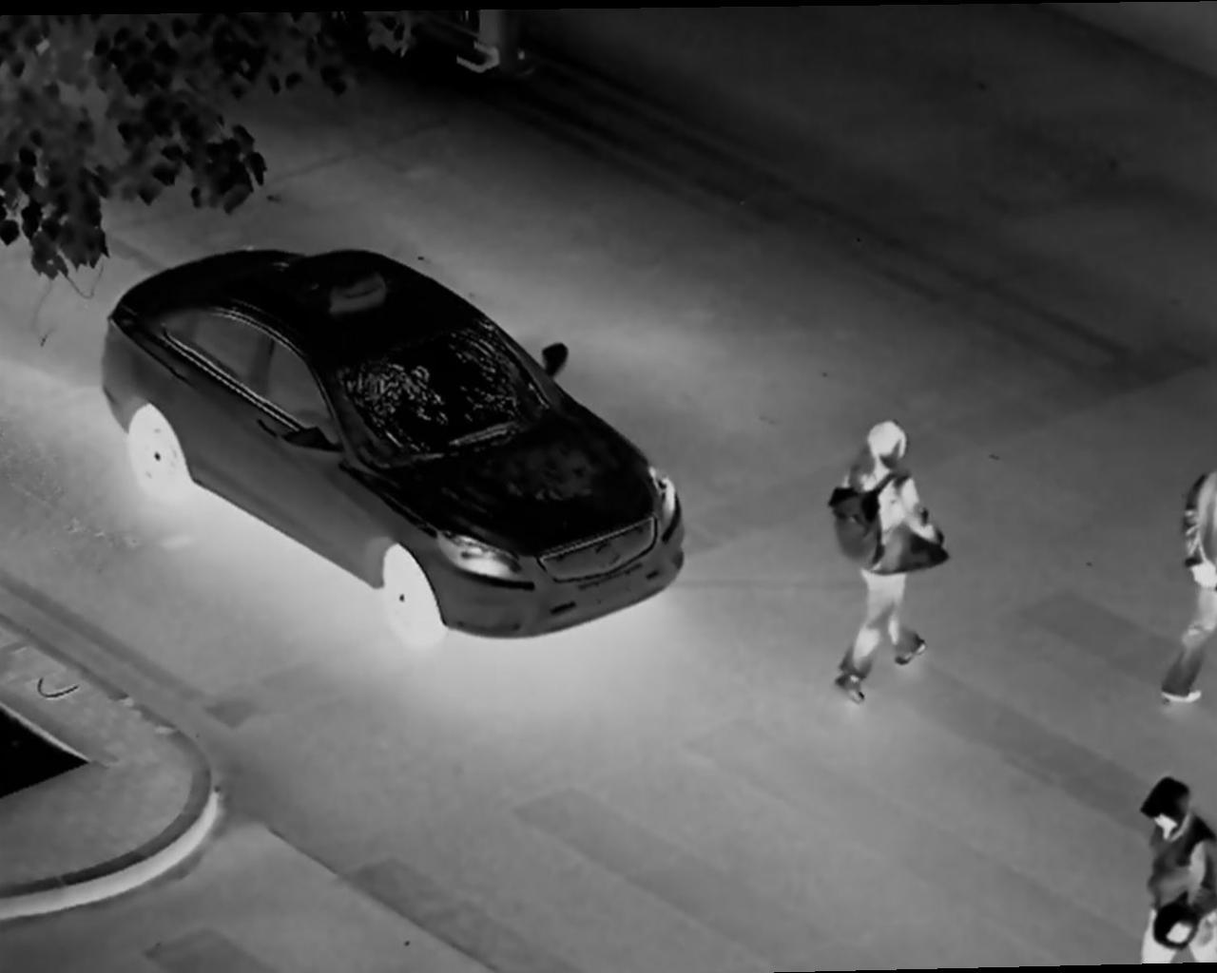person: (825, 417, 950, 696), (1113, 757, 1217, 963), (1173, 436, 1217, 717)
